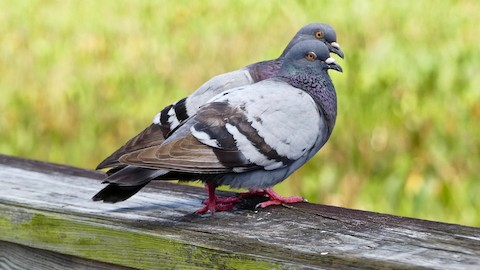pigeon: (93, 15, 350, 208), (90, 37, 345, 228)
